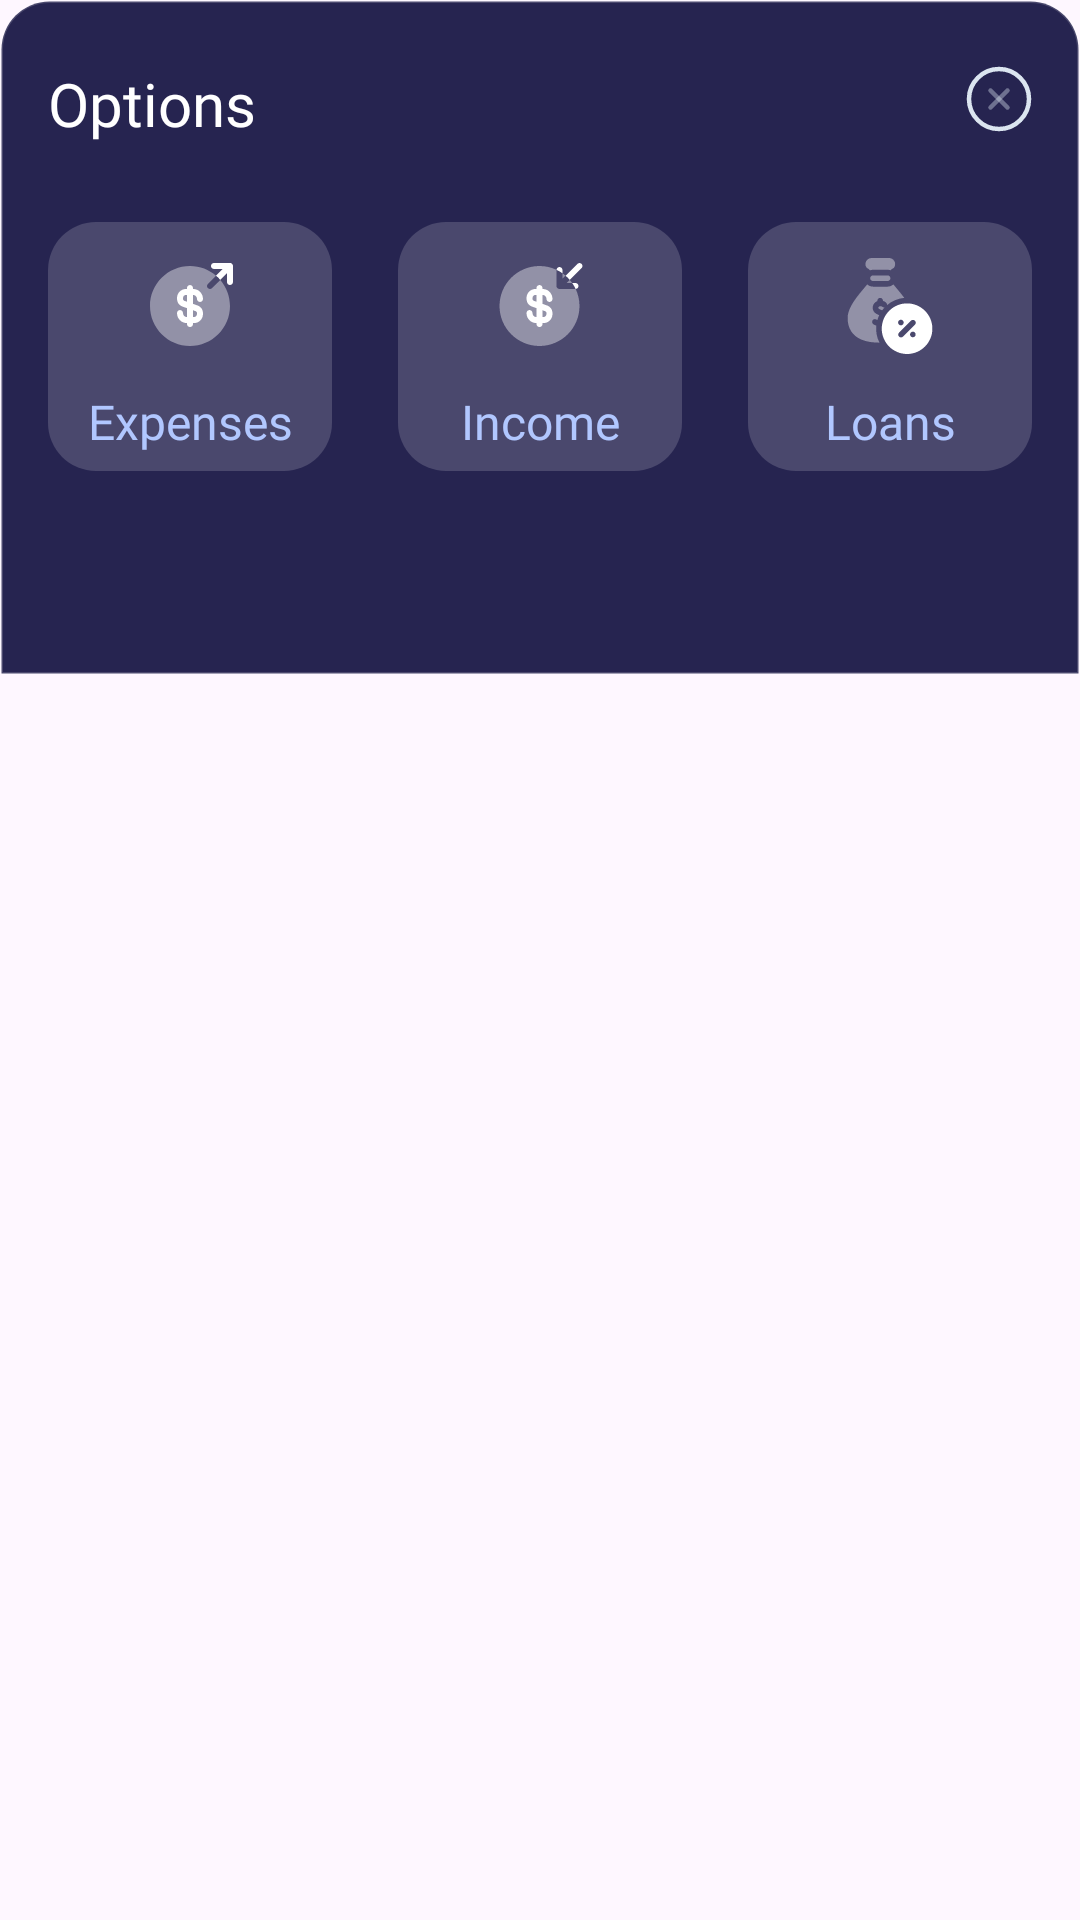

Screen size 1080 × 1920. Icon name, then its box in pixels as region(x1, y1, x2, y2):
close: region(966, 66, 1032, 132)
